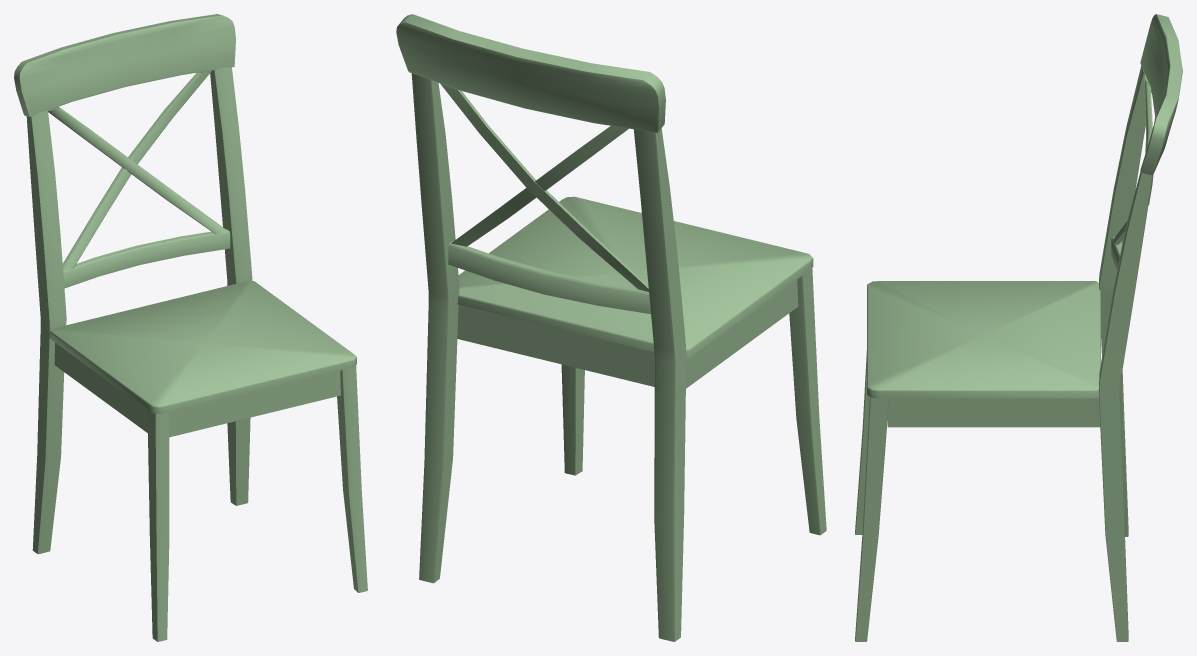
File: IngolfChair.FBX
3 renders of one model, left to right at view 1: azimuth 30°, elevation 25°; view 2: azimuth 150°, elevation 25°; view 3: azimuth 270°, elevation 25°, orthographic. The views are drawn at different scales.
Visible parts, largest first — view 1: IngolfChair; view 2: IngolfChair; view 3: IngolfChair.
Boxes of the visible parts, x1=… form: IngolfChair: x1=14, y1=14, x2=367, y2=641; IngolfChair: x1=396, y1=14, x2=826, y2=641; IngolfChair: x1=855, y1=14, x2=1182, y2=641.
Bounding box in the file's own units: 43 × 52 × 91.
